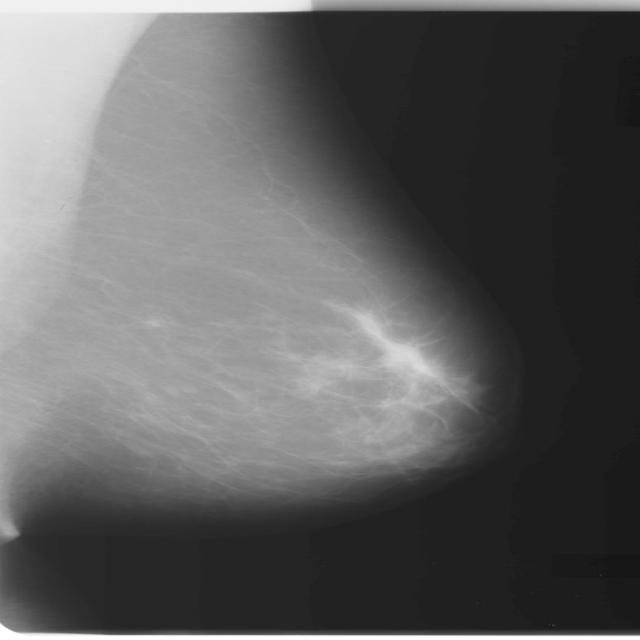tumour: (377, 341, 428, 371)
